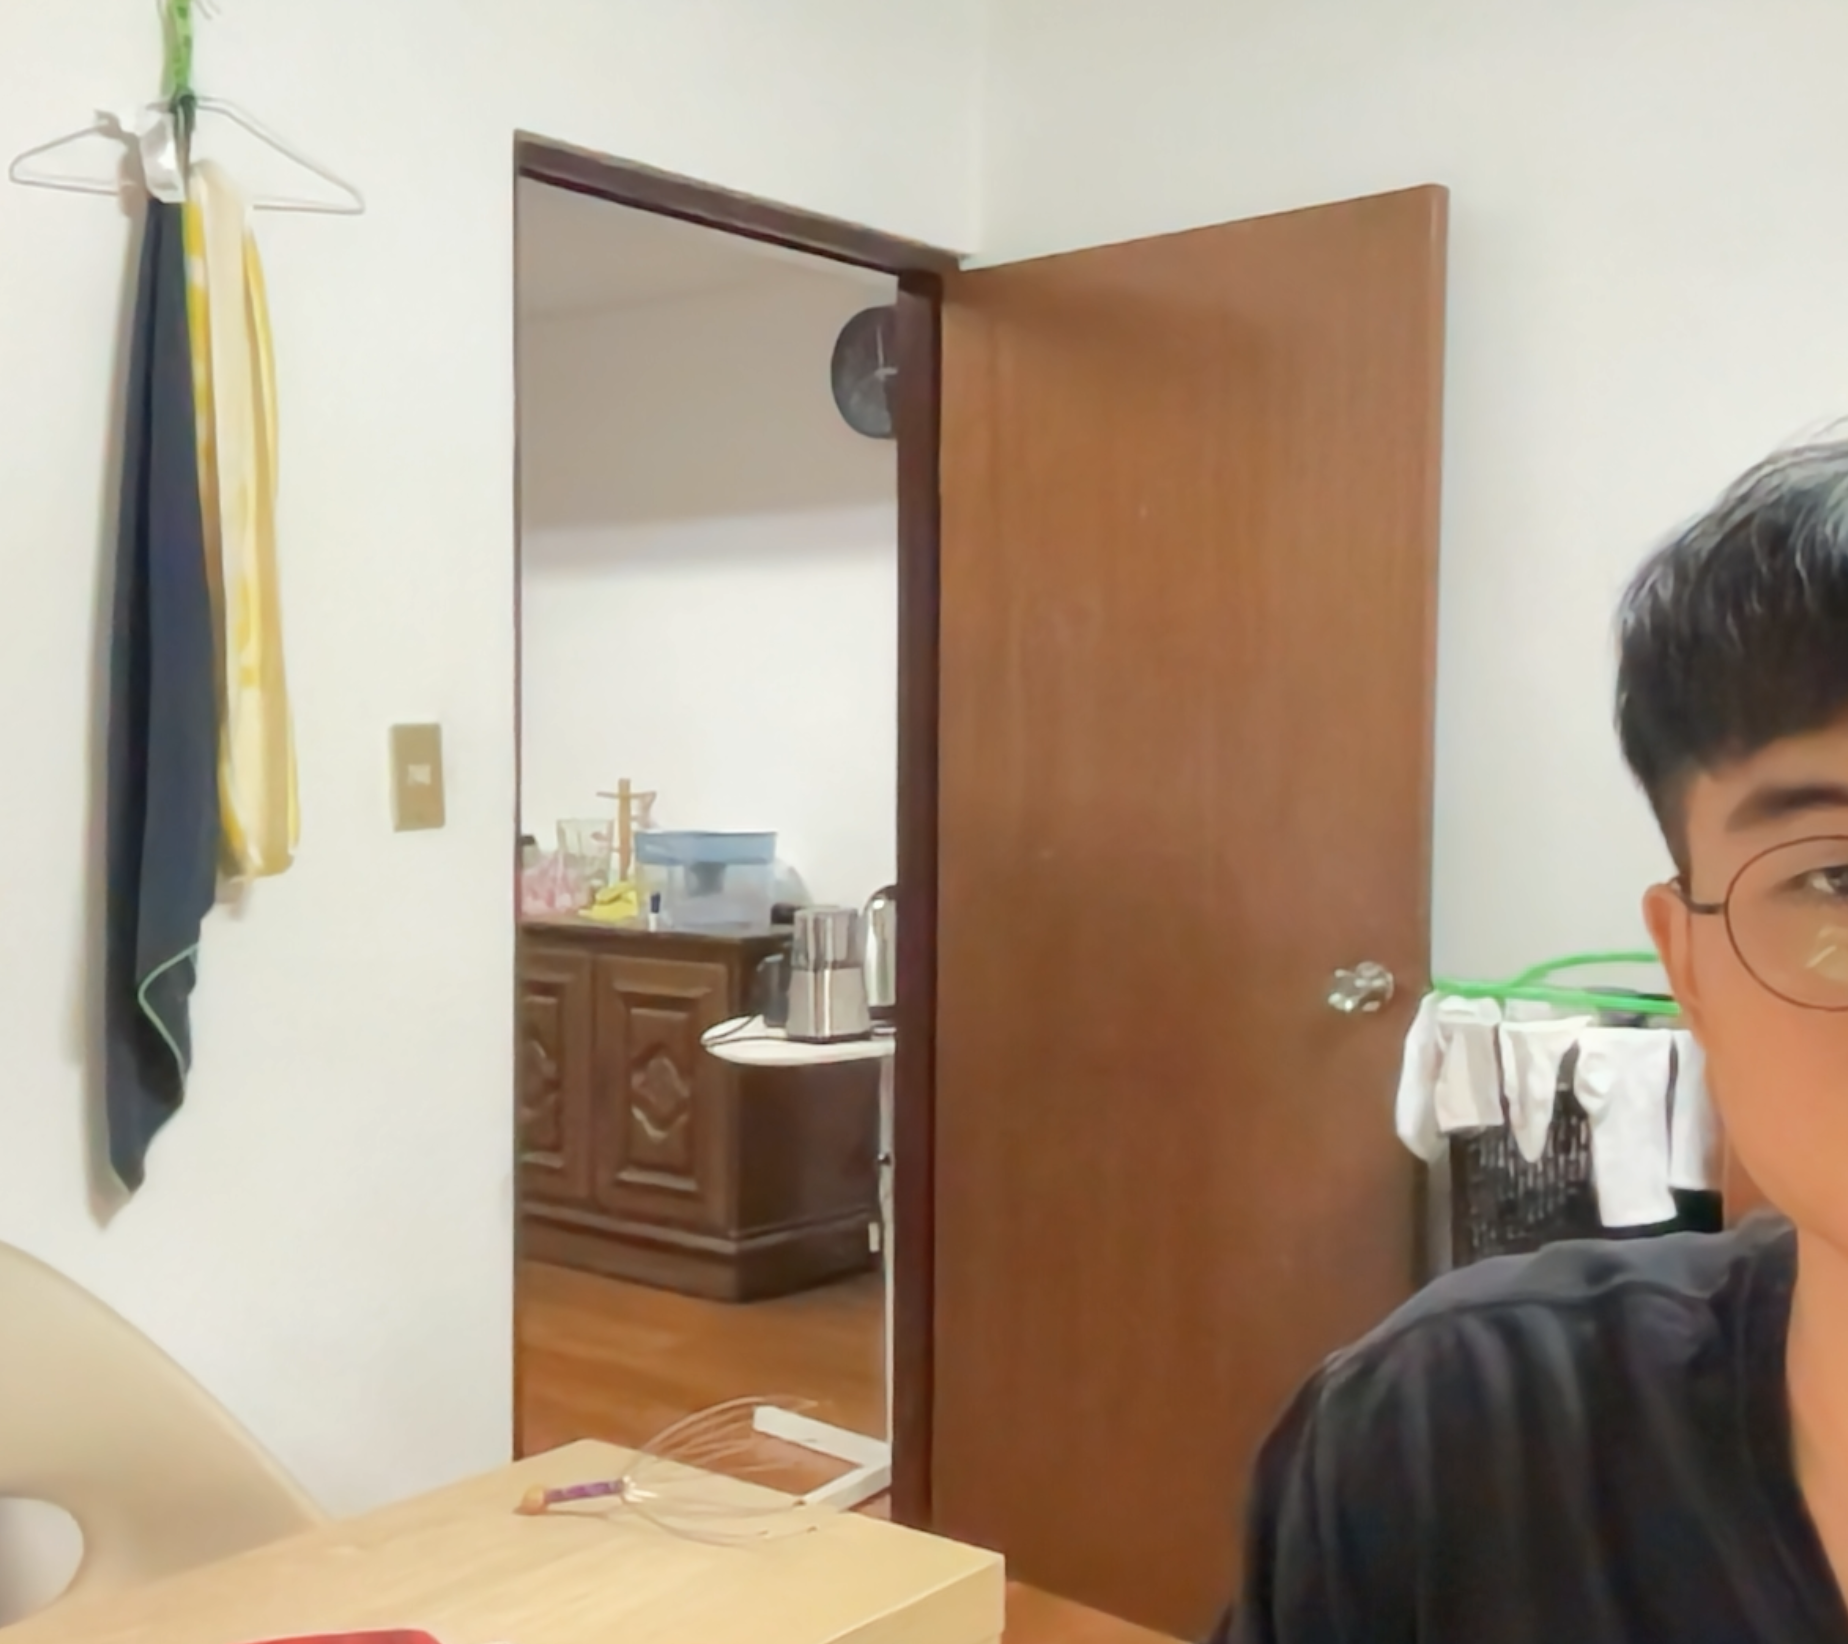Door Open: (422, 113, 1401, 1452)
